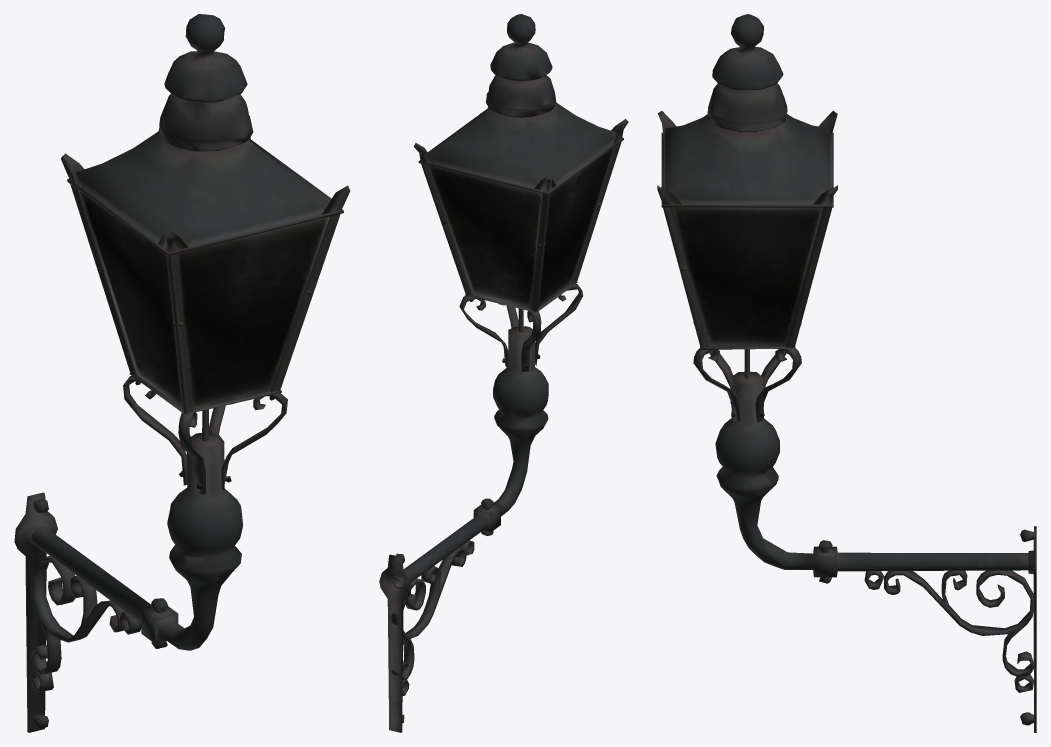
Rendered from street_lamp_02.glb.
The picture shows the model from 3 angles, left to right: view 1: azimuth 30°, elevation 25°; view 2: azimuth 150°, elevation 25°; view 3: azimuth 270°, elevation 25°; orthographic projection. The views are drawn at different scales.
Parts seen in each view (by area): view 1: street_lamp_02; view 2: street_lamp_02; view 3: street_lamp_02.
Boxes of the visible parts, left/top/right/bottom form: street_lamp_02: left=14, top=14, right=350, bottom=732; street_lamp_02: left=379, top=14, right=628, bottom=732; street_lamp_02: left=657, top=14, right=1036, bottom=732.
Bounding box in the file's own units: 0.3848 × 1.67 × 0.8054.
2 materials, 2 textured.
